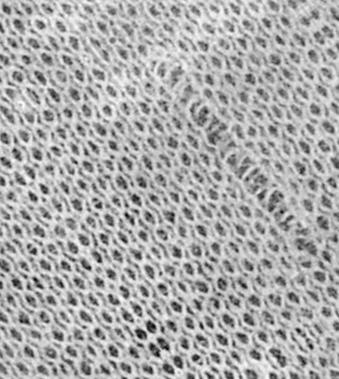slub: (150, 42, 320, 263)
